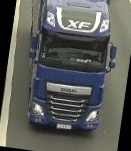truck: (18, 0, 123, 146)
